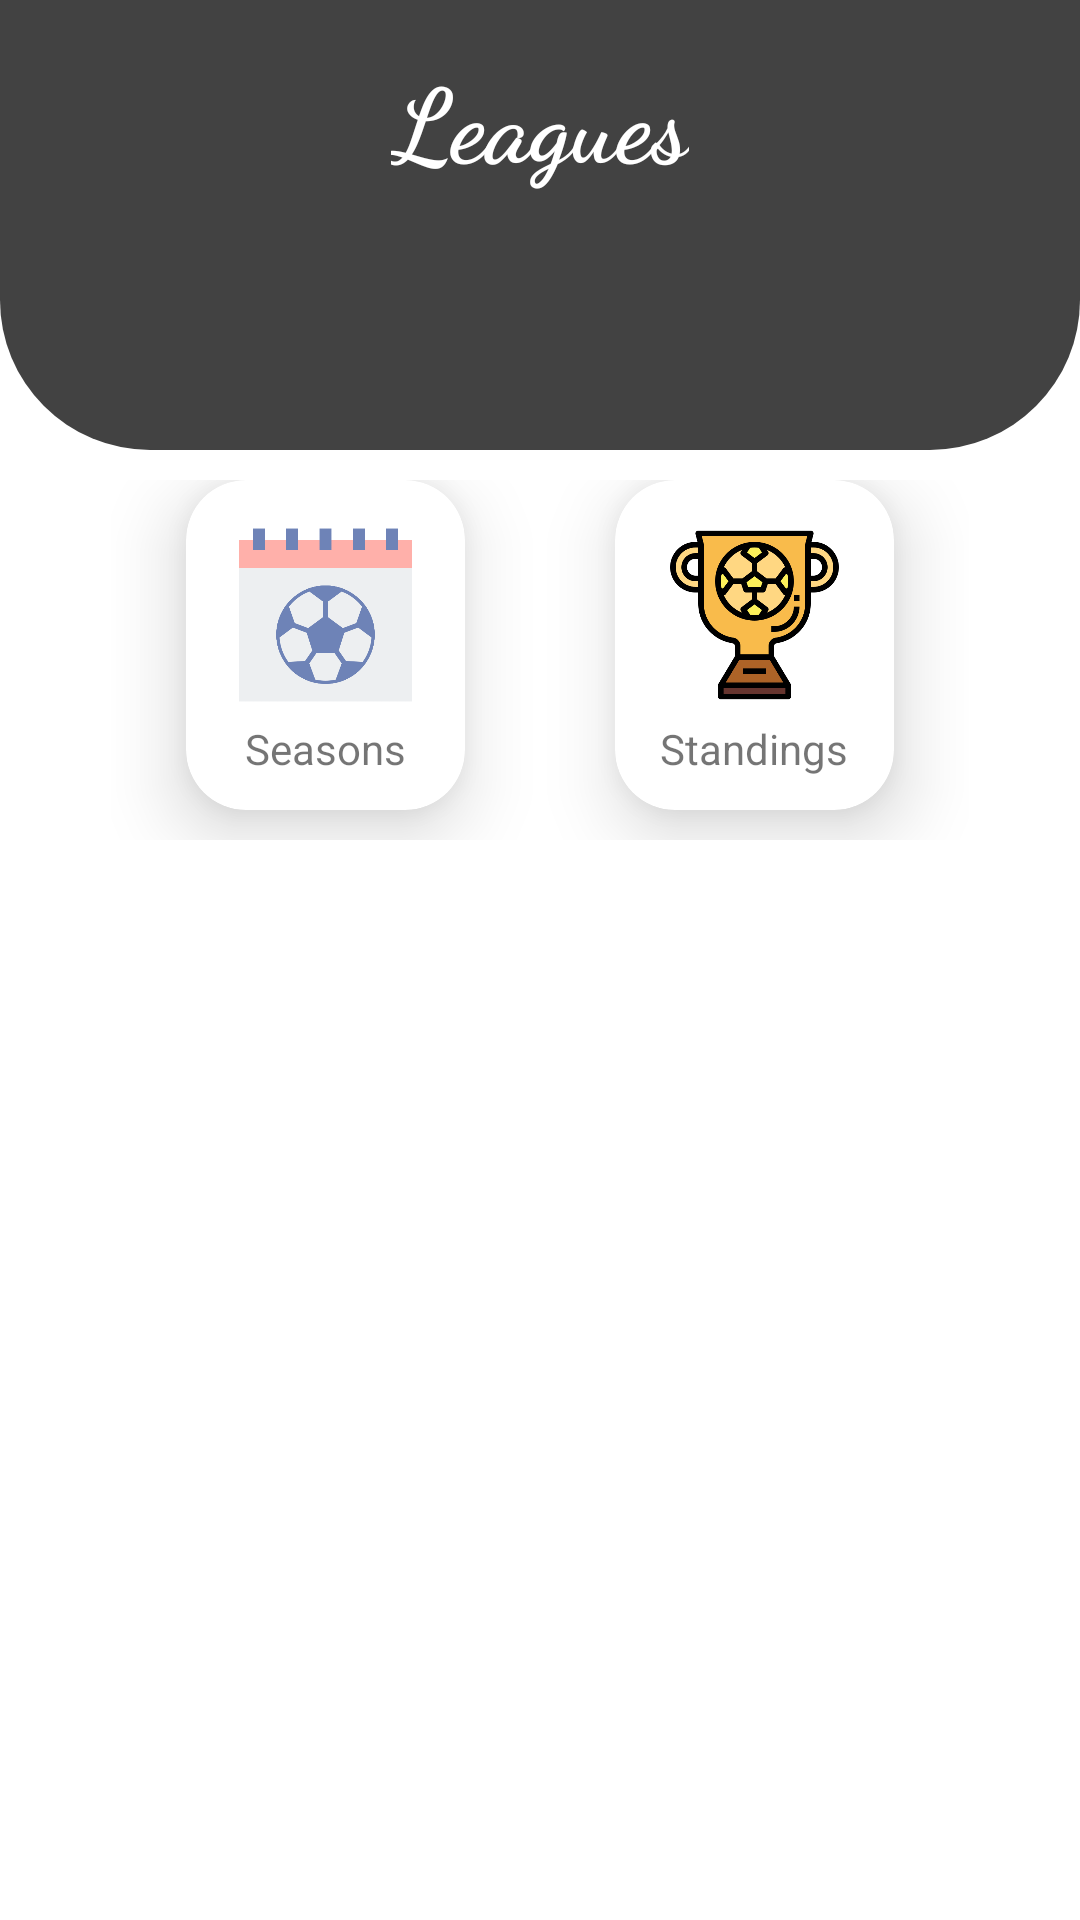

Icon bounding boxes for this 1080 x 1920 phone screenshot, format (x1, y1, x2, y2):
cup: (670, 530, 839, 700)
